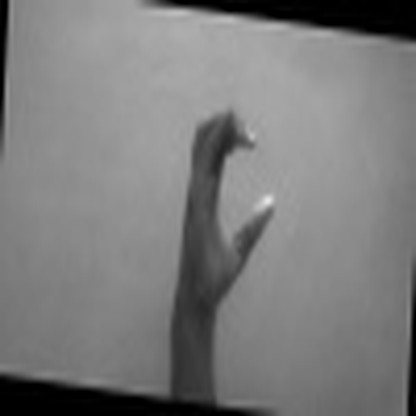c: (168, 102, 289, 297)
